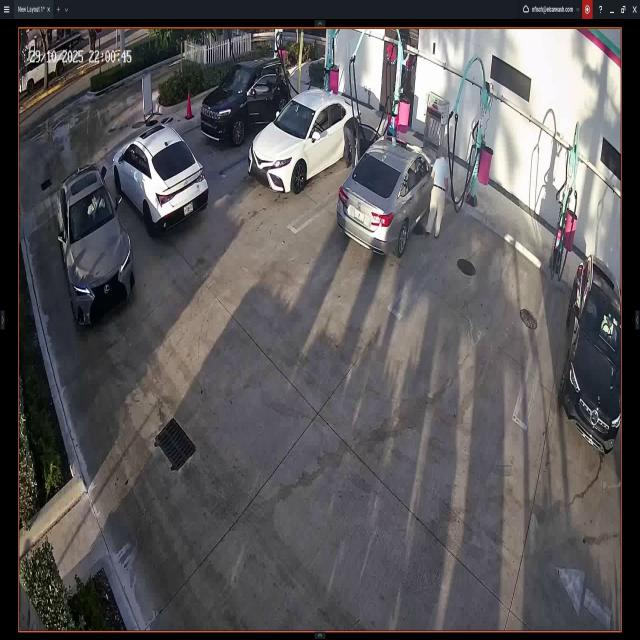Car: (56, 158, 134, 324), (339, 126, 438, 253), (248, 92, 362, 196), (568, 242, 620, 453), (121, 125, 207, 237), (202, 52, 287, 152)
